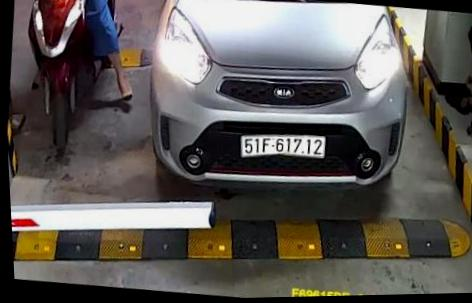License_Plate: (237, 129, 329, 162)
